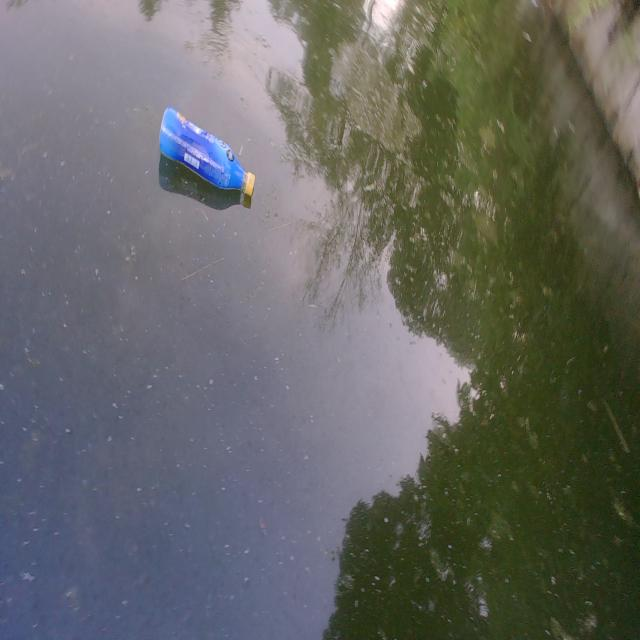Bottle: (156, 93, 256, 198)
